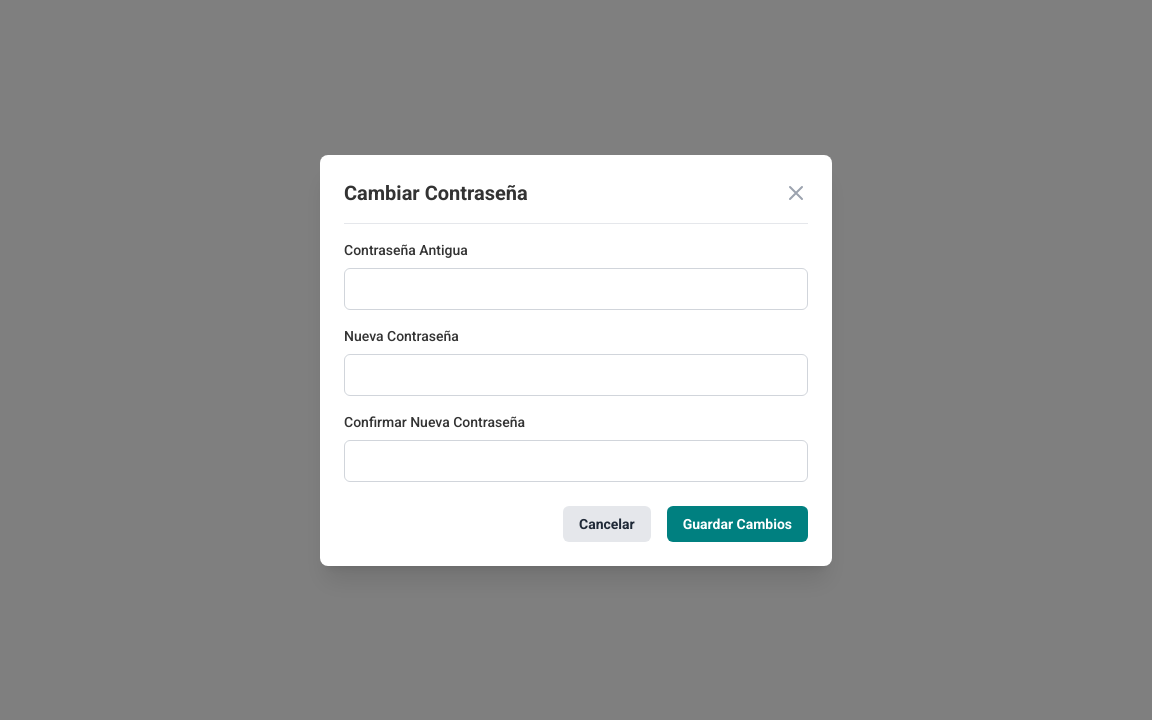
it: ChangePasswordModal › debería mostrar un error si las nuevas contraseñas no coinciden
Type "oldpass" into the password field labelled "Contraseña Antigua" at (576, 288), box [344,268,808,310]
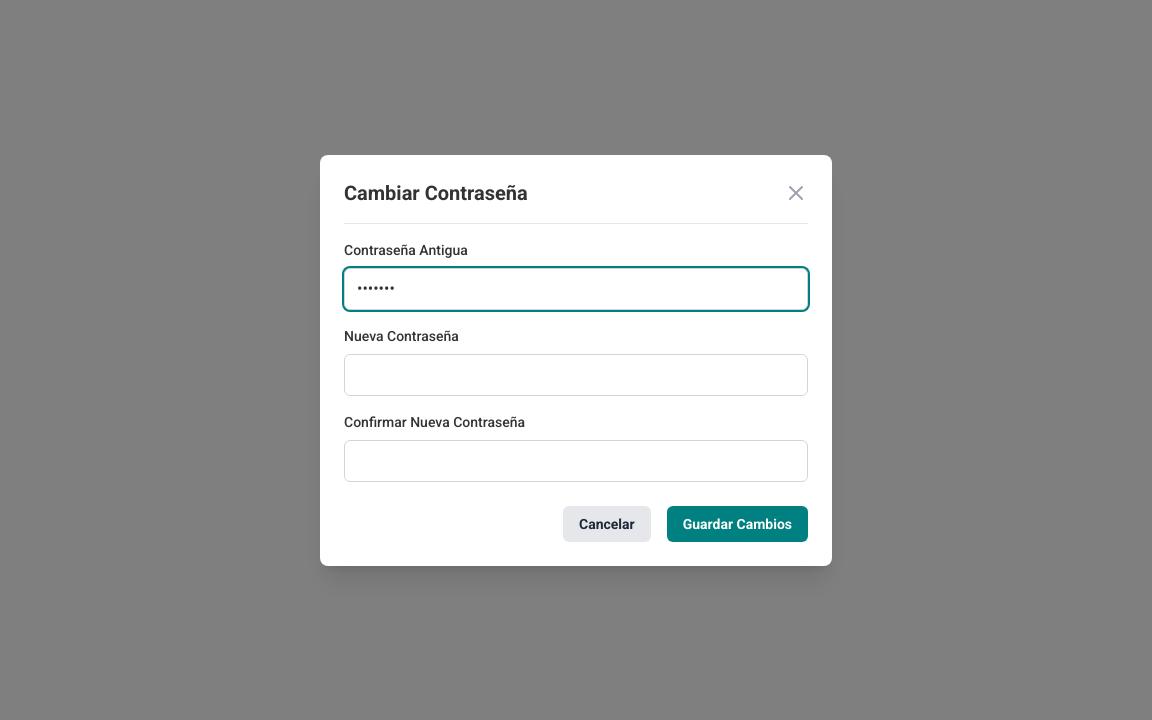
Type "newpass123" into the password field labelled "Nueva Contraseña" at (576, 374), box [344,354,808,396]
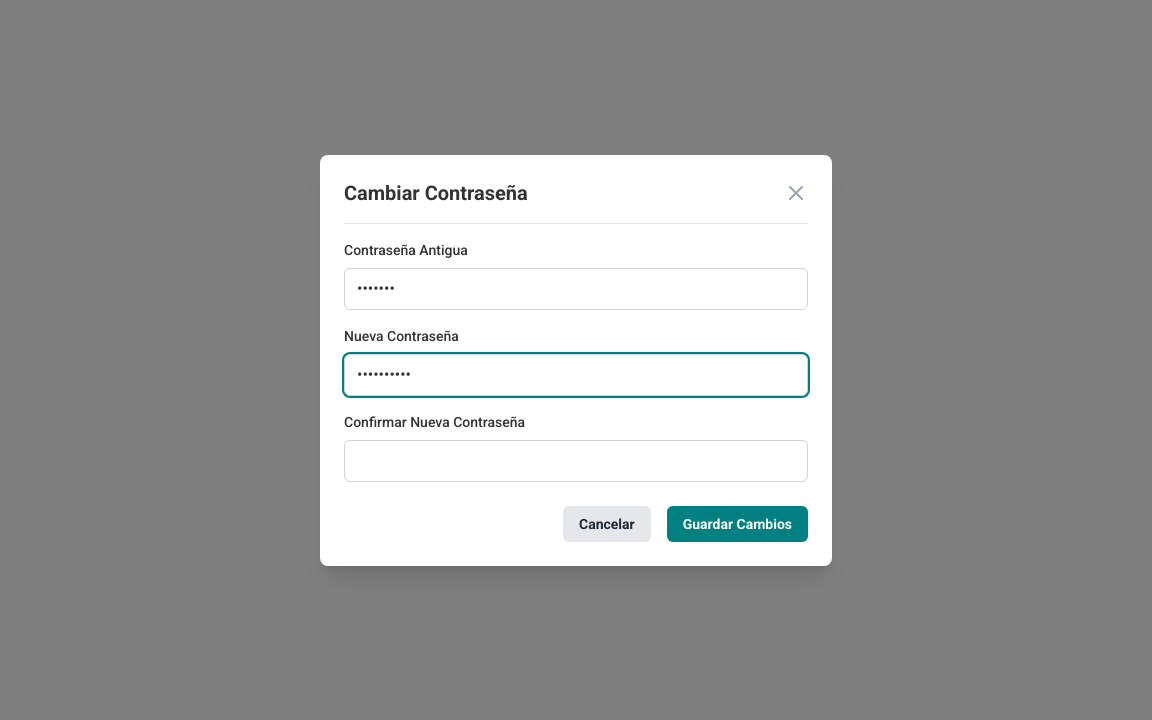
Type "newpass456" into the password field labelled "Confirmar Nueva Contraseña" at (576, 460), box [344,440,808,482]
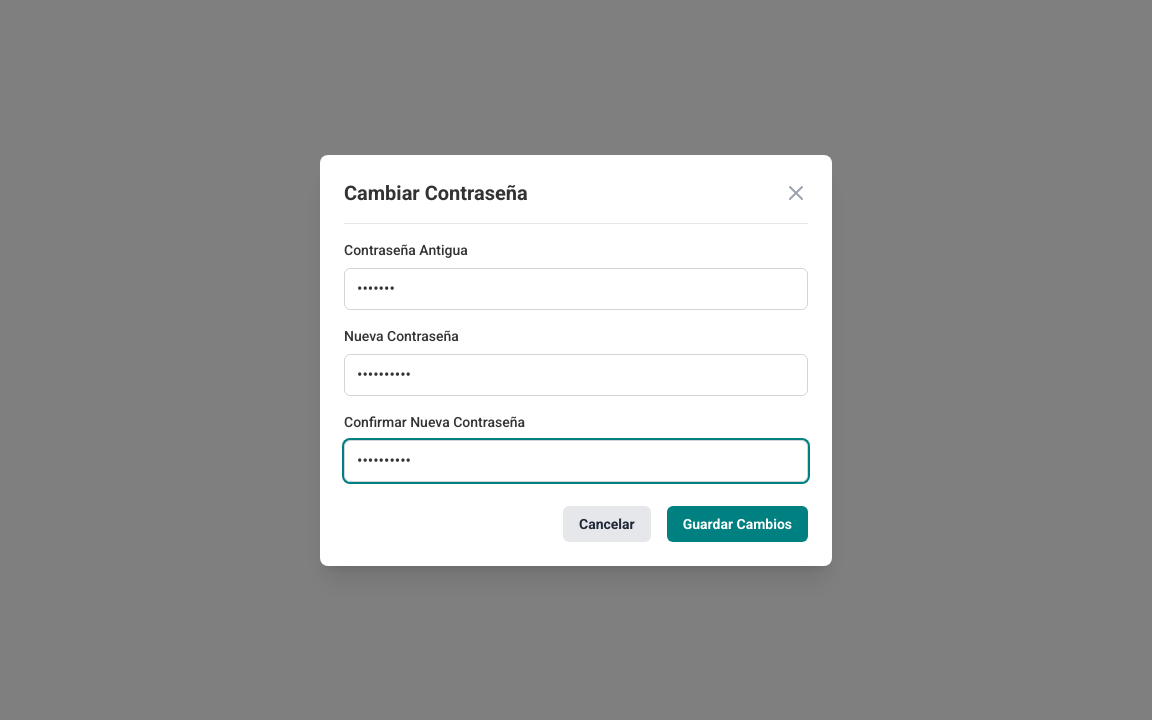
Click the button "Guardar Cambios" at (737, 524), box [667,506,808,542]
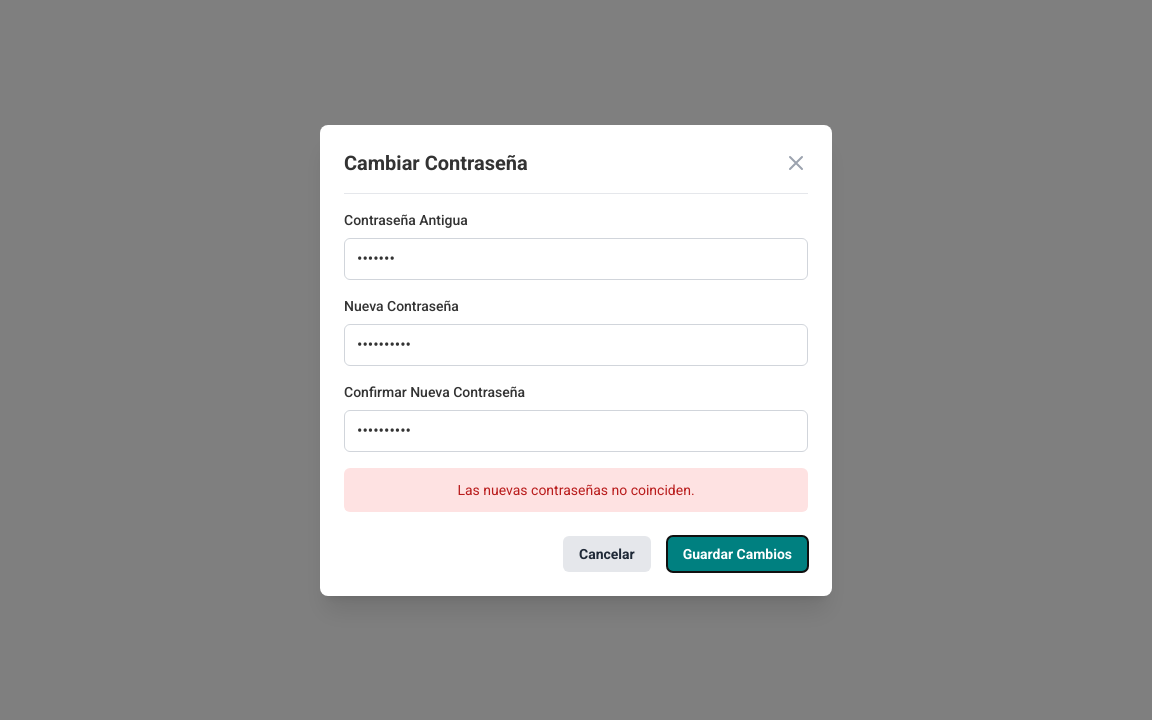
Now the text "Las nuevas contraseñas no coinciden." is shown, box [344,468,808,512]
